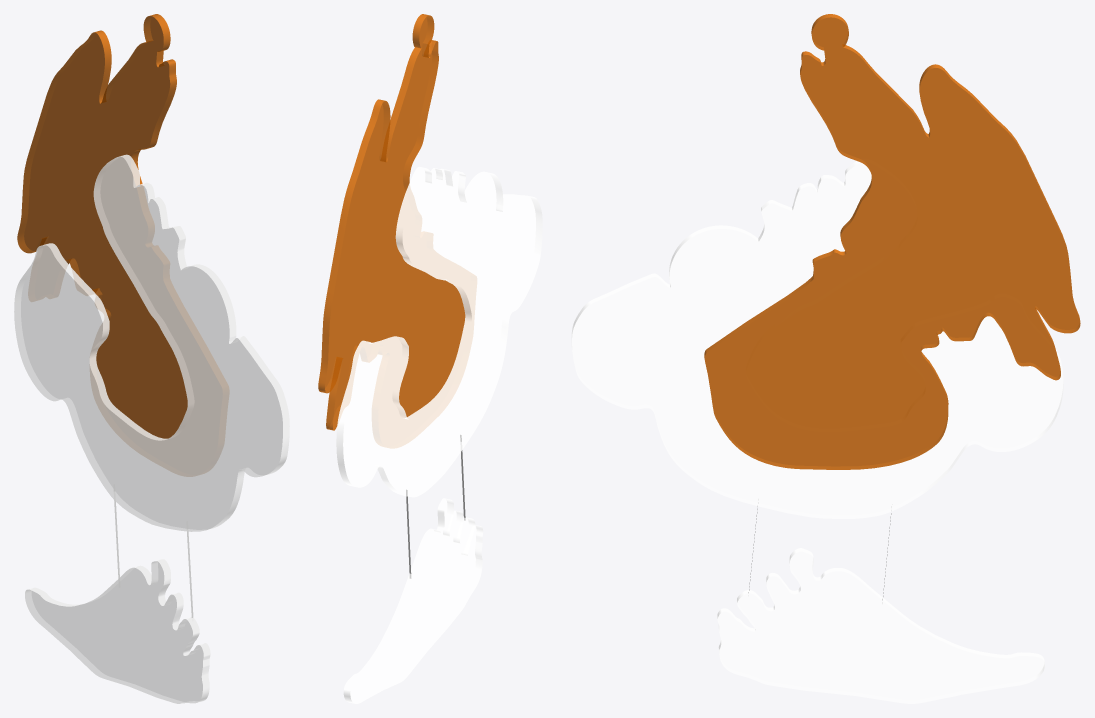
3 renders of one model, left to right at view 1: azimuth 30°, elevation 25°; view 2: azimuth 150°, elevation 25°; view 3: azimuth 270°, elevation 25°, orthographic. The views are drawn at different scales.
Parts seen in each view (by area): view 1: ICEDWHITE-BODY, ORANGE 2, ICEDWHITE-BOTTOM, LINE 2; view 2: ICEDWHITE-BODY, ORANGE 2, ICEDWHITE-BOTTOM, LINE 2; view 3: ORANGE 2, ICEDWHITE-BODY, ICEDWHITE-BOTTOM.
Part boxes in pixels (bbox=[...]): ICEDWHITE-BODY: bbox=[14, 154, 289, 531]; ORANGE 2: bbox=[17, 14, 187, 438]; ICEDWHITE-BOTTOM: bbox=[25, 559, 210, 703]; LINE 2: bbox=[113, 484, 193, 621]; ICEDWHITE-BODY: bbox=[336, 166, 542, 497]; ORANGE 2: bbox=[318, 14, 465, 430]; ICEDWHITE-BOTTOM: bbox=[343, 498, 483, 703]; LINE 2: bbox=[406, 435, 465, 578]; ORANGE 2: bbox=[704, 14, 1080, 469]; ICEDWHITE-BODY: bbox=[571, 161, 1063, 518]; ICEDWHITE-BOTTOM: bbox=[717, 548, 1044, 703].
Bounding box in the file's own units: 2.2 × 37.22 × 24.73.
